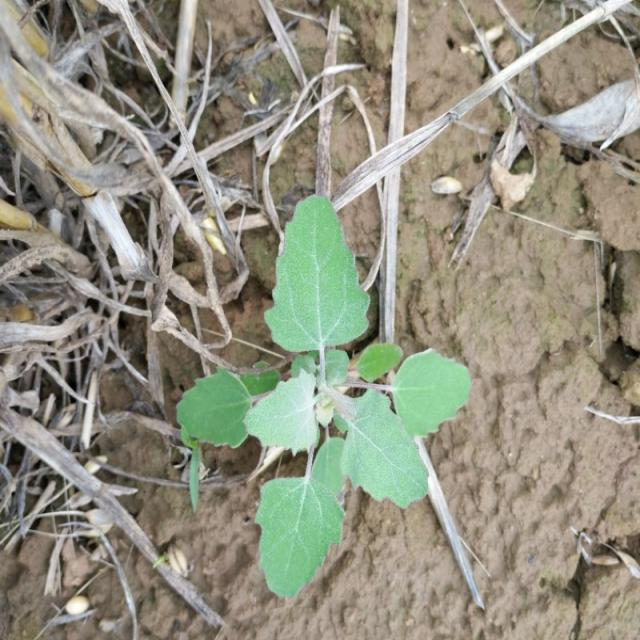goosefoots: (174, 191, 460, 608)
